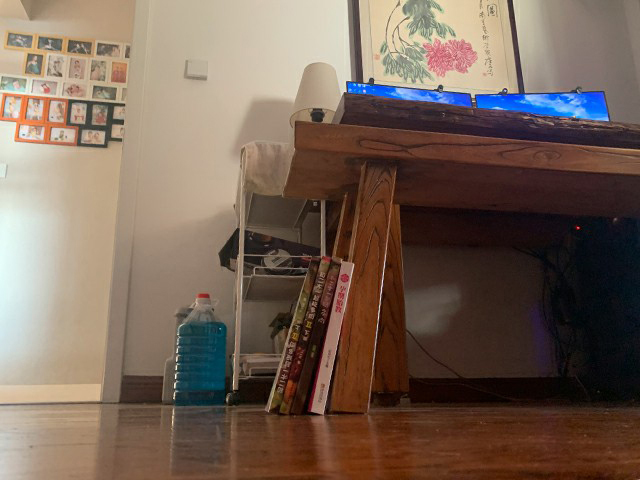book: (264, 253, 355, 417)
stool: (282, 120, 640, 418)
wire: (406, 247, 604, 409)
